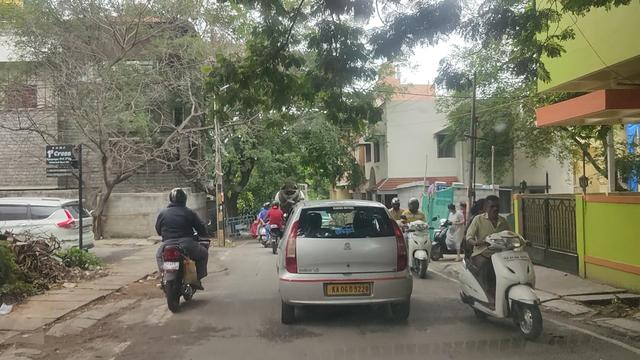LMV: (278, 202, 407, 320), (462, 195, 536, 331), (153, 190, 206, 309)
RoadDamages: (66, 326, 152, 360)
